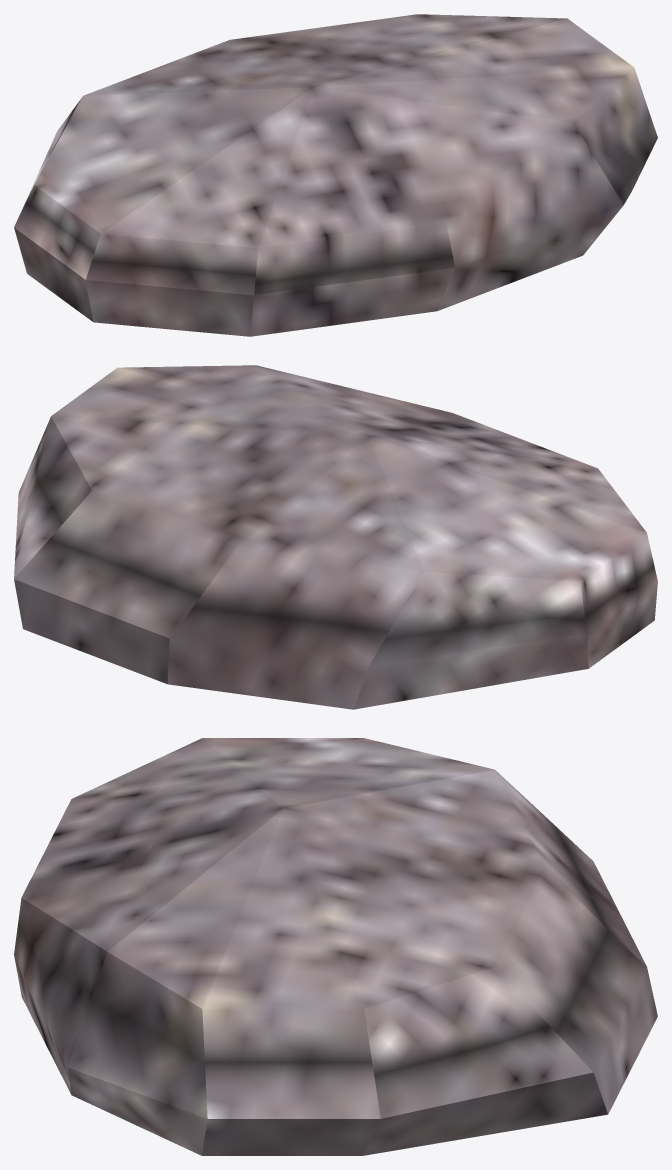
Rendered from MS_Rock_6.fbx.
3 renders of one model, top to bottom at view 1: azimuth 30°, elevation 25°; view 2: azimuth 150°, elevation 25°; view 3: azimuth 270°, elevation 25°, orthographic. The views are drawn at different scales.
Parts seen in each view (by area): view 1: Cylinder; view 2: Cylinder; view 3: Cylinder.
Part boxes in pixels (x1,y1,x2,y2): Cylinder: [14, 14, 657, 336]; Cylinder: [14, 365, 657, 709]; Cylinder: [14, 738, 657, 1155].
Bounding box in the file's own units: 30.85 × 7.65 × 24.85.
